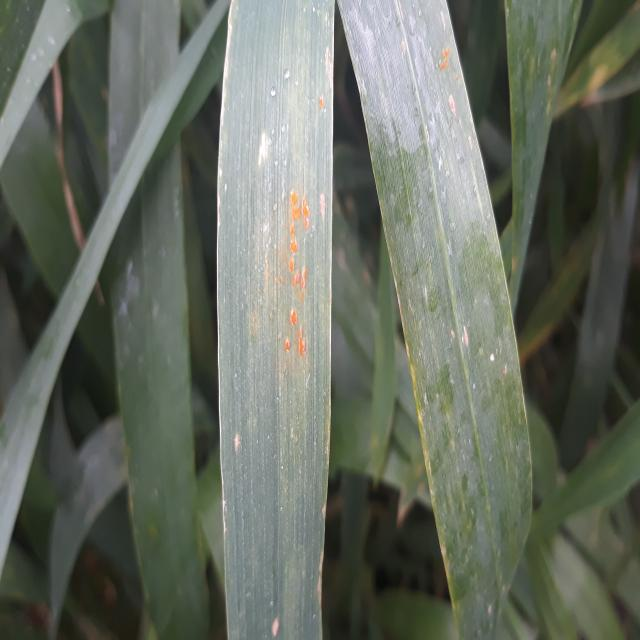orang_rust: (247, 183, 332, 374), (313, 48, 336, 124), (438, 38, 461, 84)
powder_mildew: (358, 90, 536, 640), (492, 0, 640, 126), (204, 426, 288, 640), (209, 0, 280, 181)
